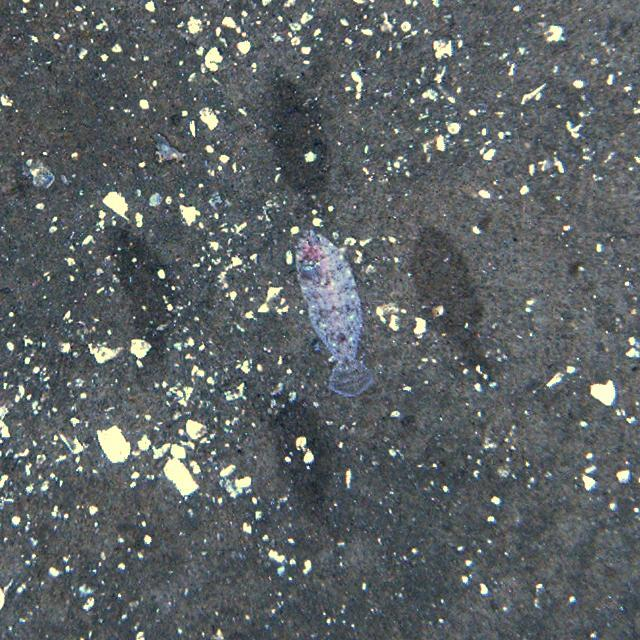flatfish: (289, 224, 379, 402)
